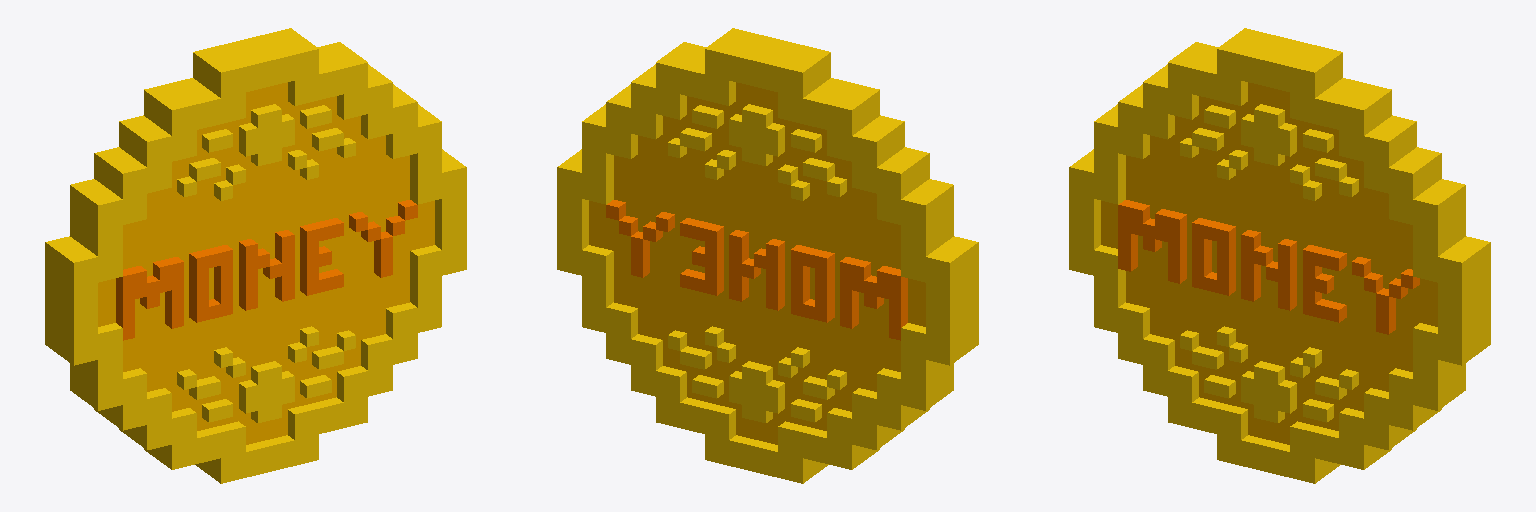
The picture shows the model from 3 angles: view 1: azimuth 30°, elevation 25°; view 2: azimuth 150°, elevation 25°; view 3: azimuth 330°, elevation 25°; orthographic projection.
Bounding box in the file's own units: 32 × 32 × 4.
Materials: 1 (1 with a texture image).